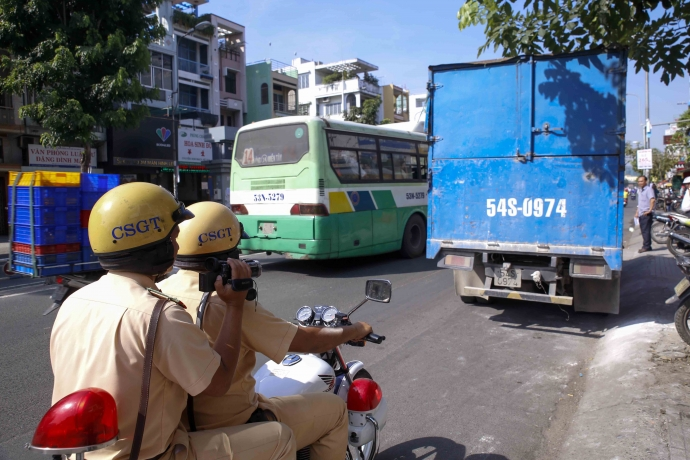police: (39, 185, 379, 459)
